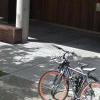Bicycle: (23, 36, 100, 100)
